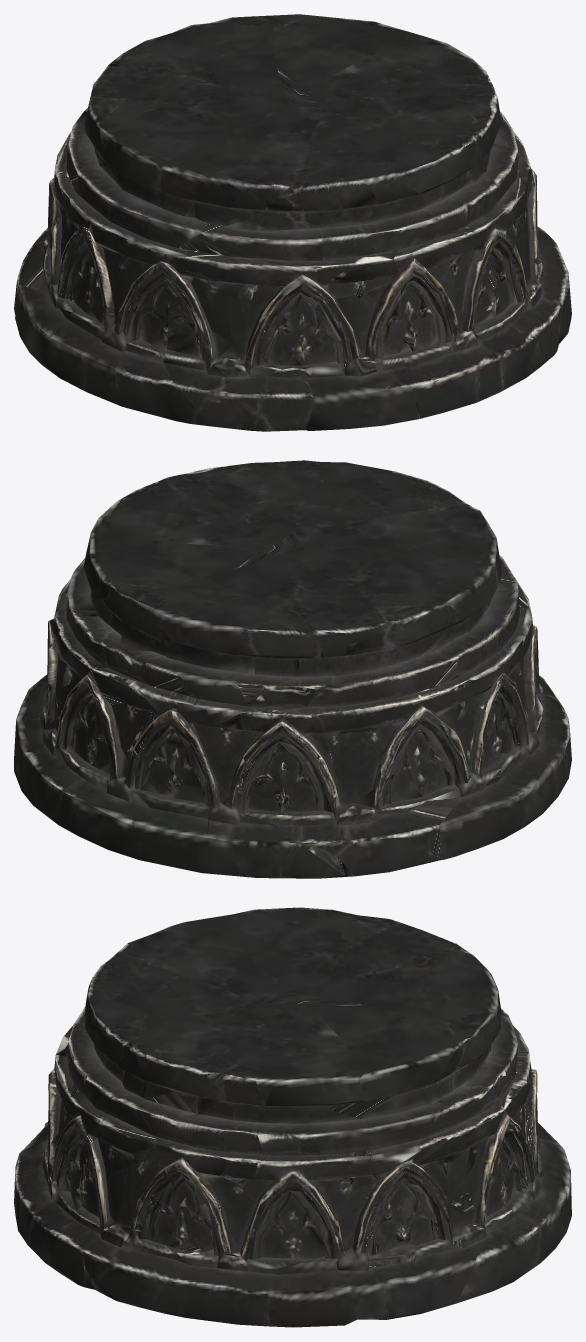
The model's file is base-black.glb.
3 views of the same model, one above another, from view 1: azimuth 30°, elevation 25°; view 2: azimuth 150°, elevation 25°; view 3: azimuth 270°, elevation 25° (orthographic).
Parts seen in each view (by area): view 1: PieceBase; view 2: PieceBase; view 3: PieceBase.
Part boxes in pixels (<box>): PieceBase: <box>14,14,571,431</box>; PieceBase: <box>14,460,571,878</box>; PieceBase: <box>14,907,571,1327</box>.
Size of the model in its own units: 0.9969 by 0.4253 by 0.9953.
Materials: 1 (1 with a texture image).
